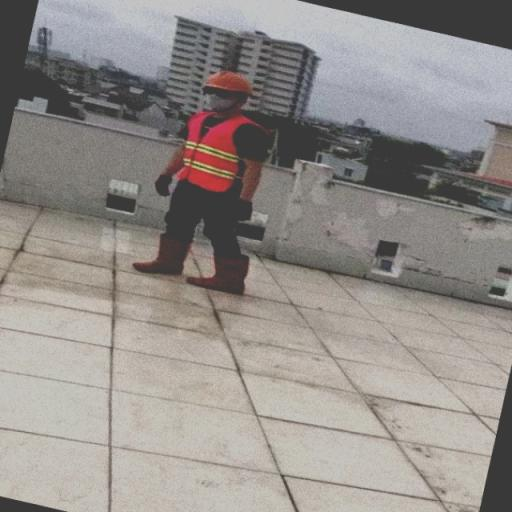Person: (112, 26, 294, 318)
boots: (180, 238, 286, 305), (135, 223, 190, 285)
gloves: (223, 184, 275, 227), (138, 166, 181, 200)
goggles: (190, 82, 248, 108)
helmet: (198, 61, 254, 101)
vest: (164, 97, 265, 202)
